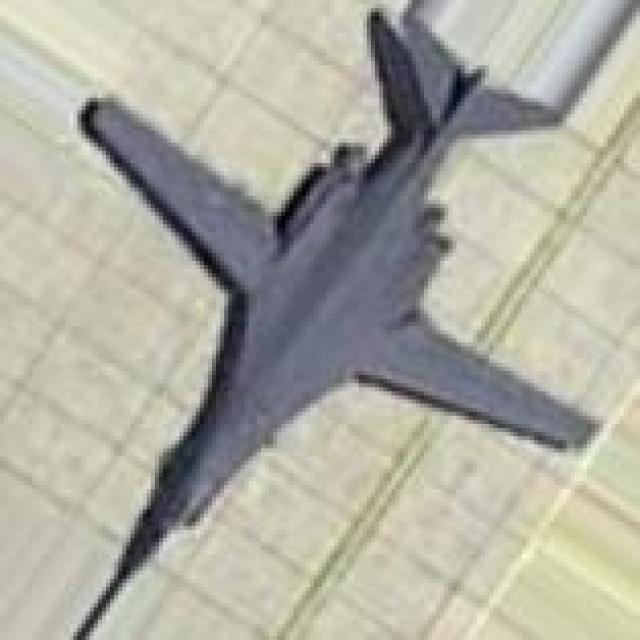B-1_TopDown: (53, 0, 603, 636)
